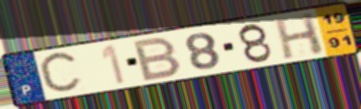1: (99, 42, 127, 86)
8: (236, 22, 273, 64), (184, 31, 223, 70)
B: (132, 34, 184, 83)
C: (36, 49, 85, 97)
H: (272, 11, 327, 61)
